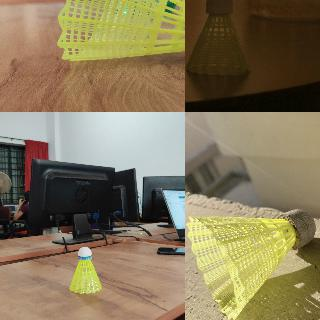shuttlecock: (187, 210, 316, 318), (56, 0, 184, 67), (185, 0, 250, 76), (68, 246, 102, 294)
